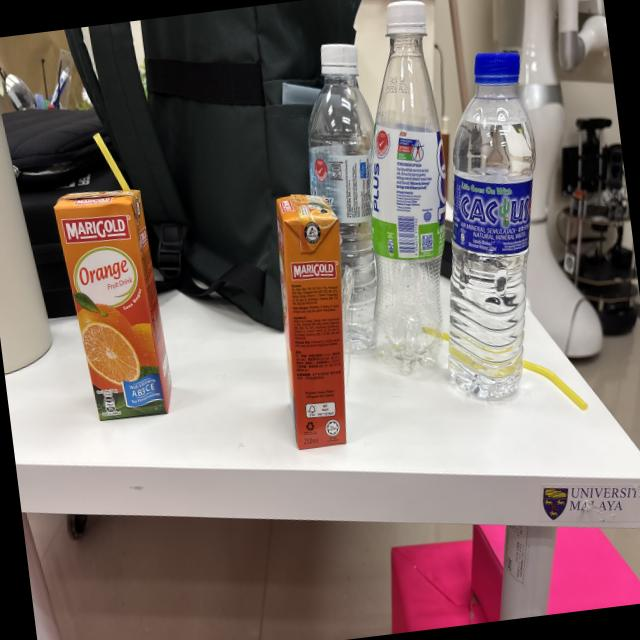drink_carton: (41, 118, 187, 441), (260, 179, 372, 470)
plastic_bottle: (408, 39, 576, 423), (328, 0, 479, 389), (284, 28, 407, 380)
